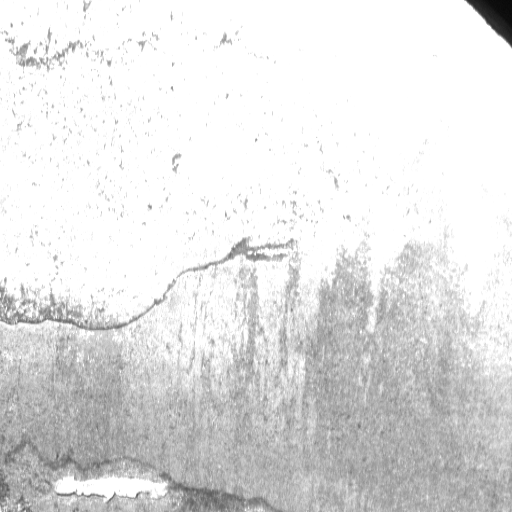qiaopi: (1, 235, 296, 332), (49, 475, 174, 502)
